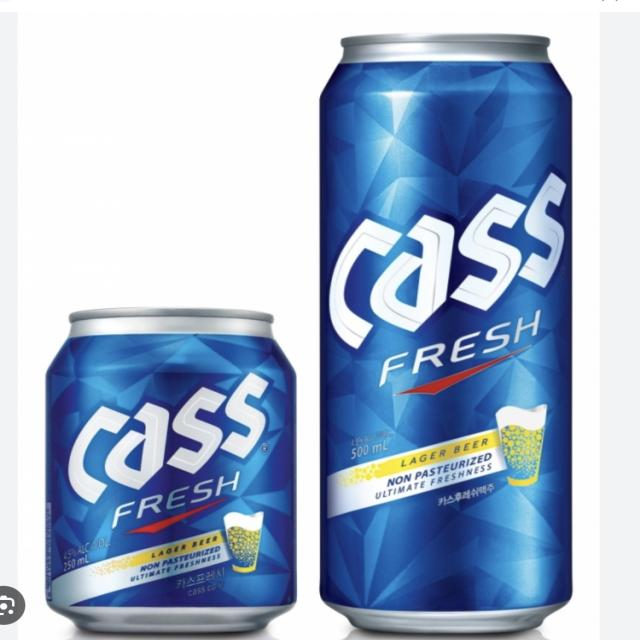recyclable: (299, 14, 587, 636), (32, 284, 308, 636)
